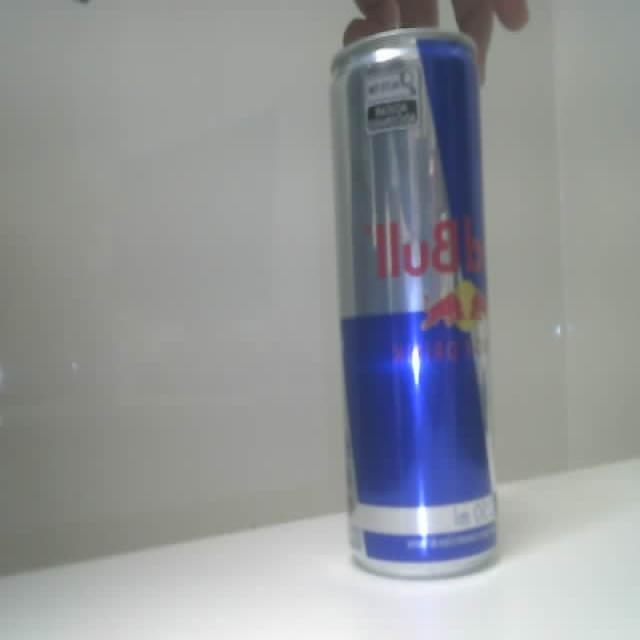redbull can: (332, 30, 495, 575)
